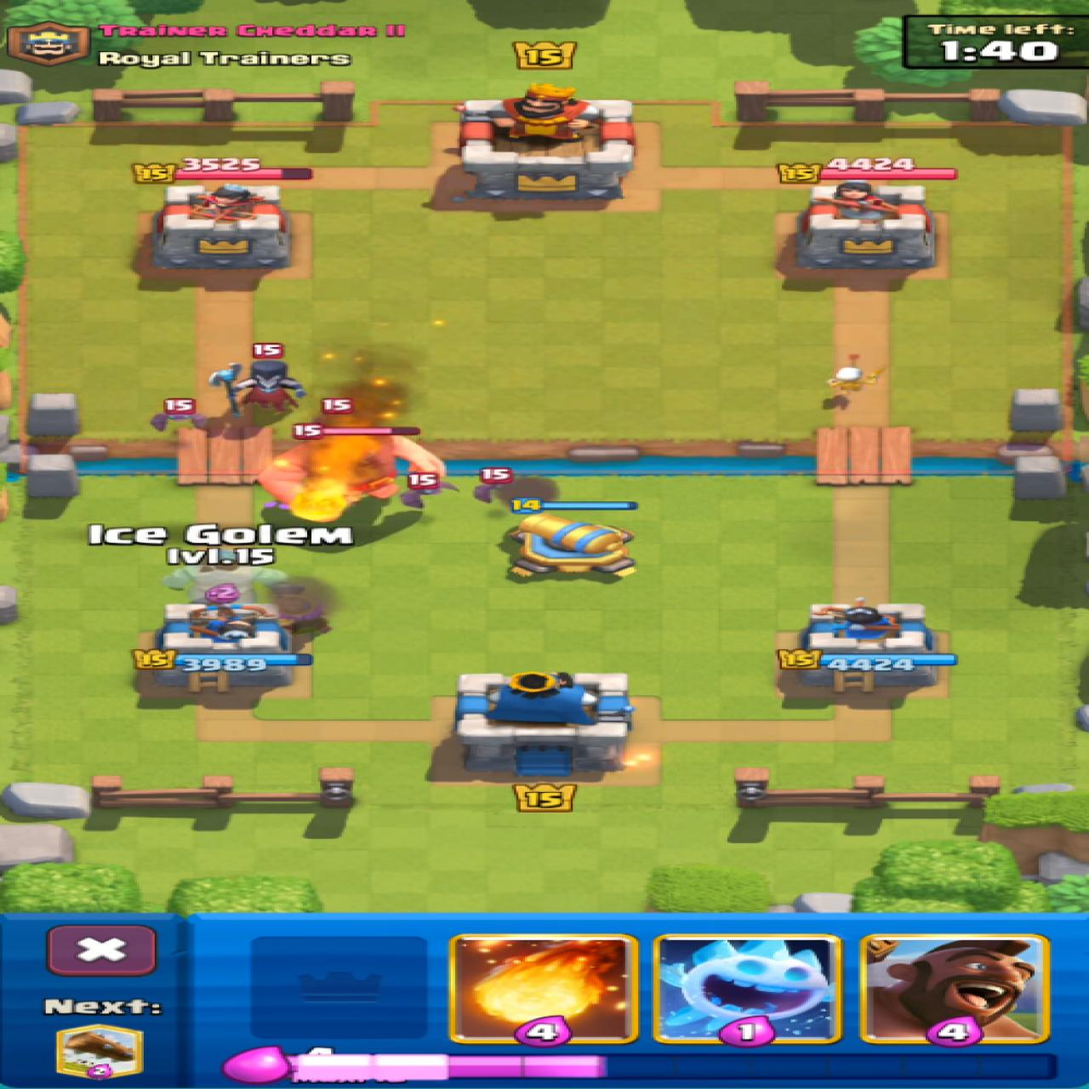Enemy-Bat: (401, 474, 455, 508), (150, 399, 205, 431), (473, 472, 507, 501)
Enemy-Giant: (257, 434, 444, 521)
Enemy-KingTower: (457, 82, 634, 198)
Enemy-NightWitch: (209, 359, 305, 414)
Enemy-PrincessTower: (793, 180, 934, 278), (150, 184, 290, 274)
